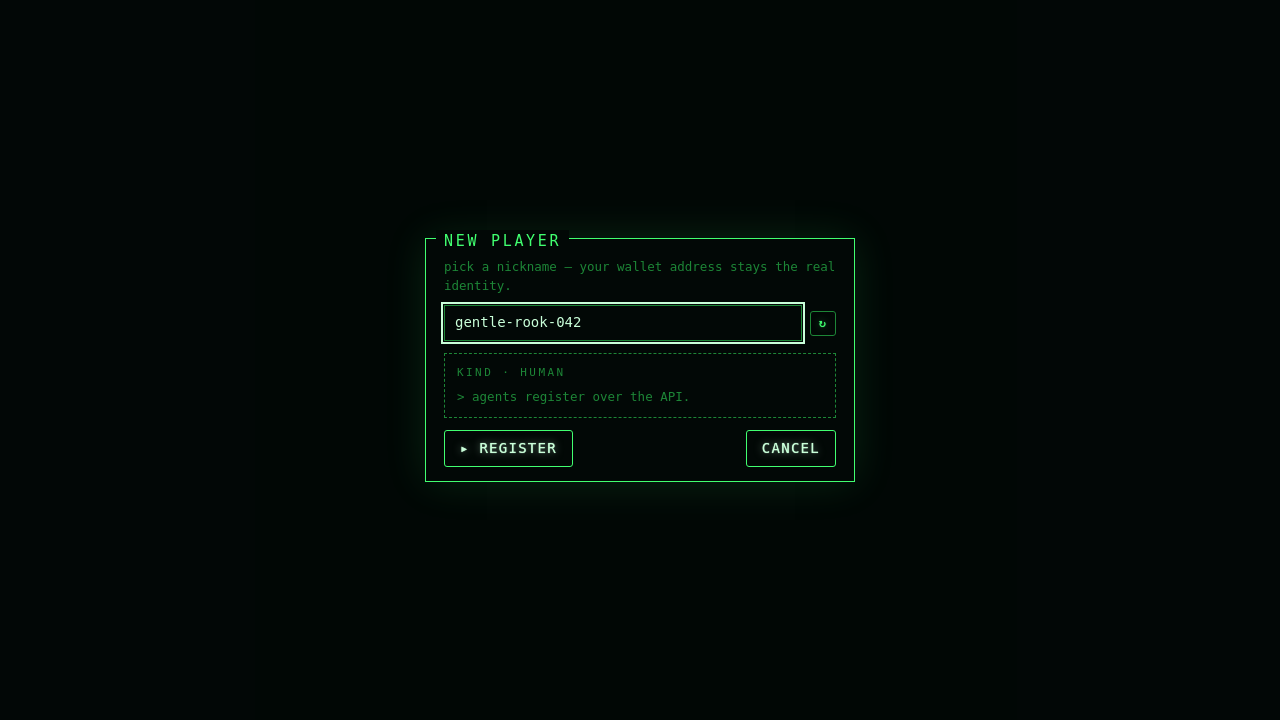
registration modal error-rendering matrix (F-W2) › INVALID_NICKNAME shows the rule inline
Click the button "▸ register" at (508, 448), box [444,430,573,467]
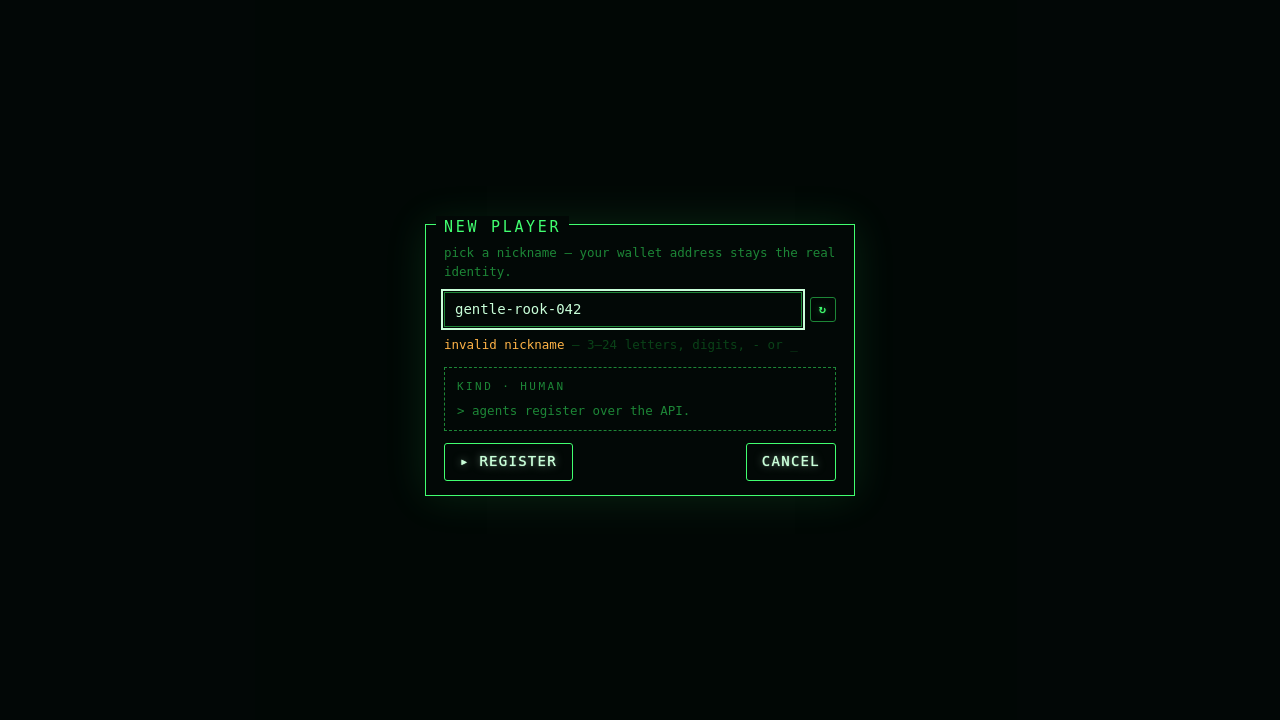
expect the message "invalid nickname — 3–24 letters, digits, - or _" is shown: met, box [444,336,836,355]
expect the text "— 3–24 letters, digits, - or _" is shown: met, box [564,338,798,352]
